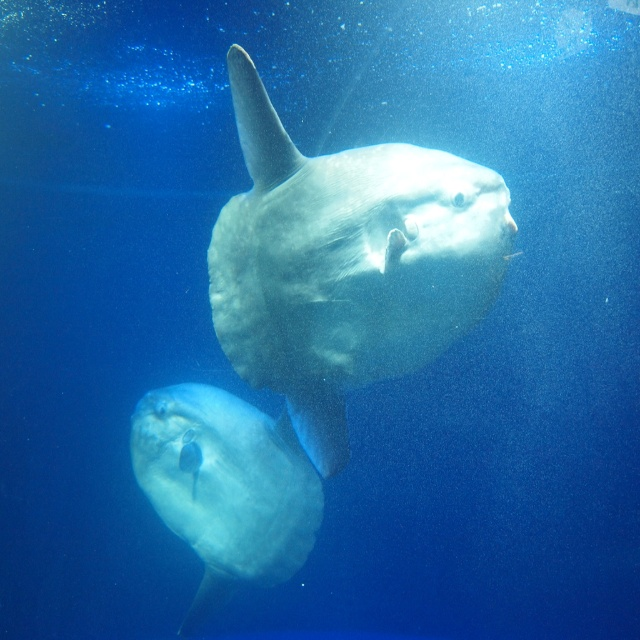Fish: (186, 35, 520, 507), (130, 380, 325, 639)
